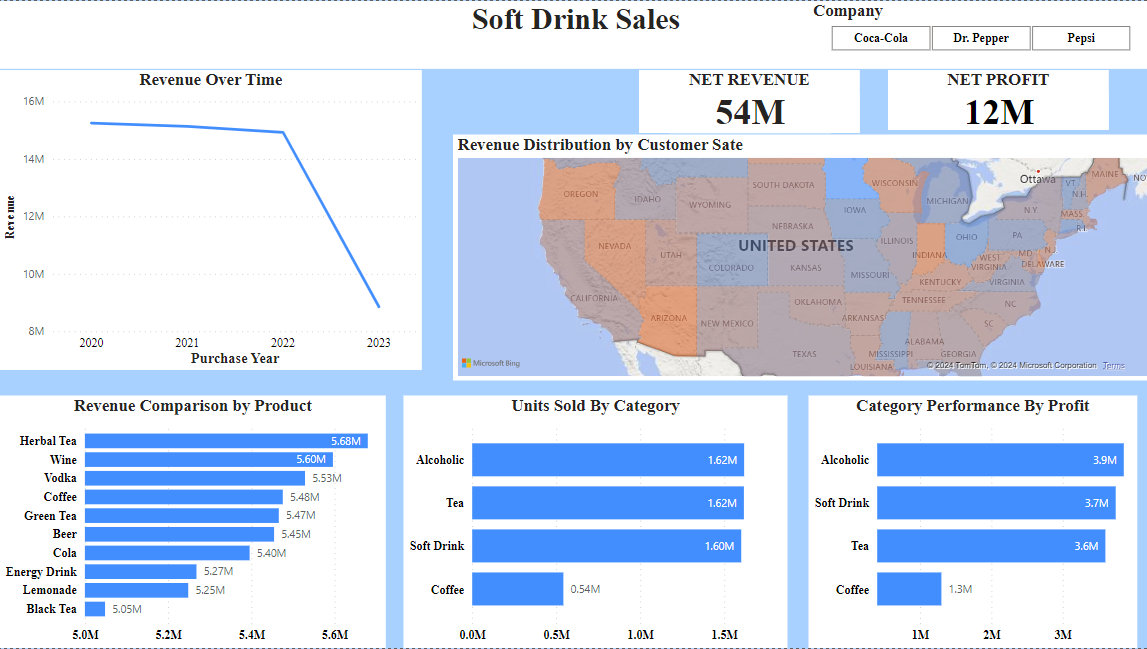

The dashboard page shown, as its layout file describes it:
{"tool":"powerbi","page":{"name":"Page 1","canvas":[1280,720],"ordinal":0},"visuals":[{"type":"lineChart","title":" Revenue Over Time","fields":{"Category":["soft_drink_sales.Purchase Date.Variation.Date Hierarchy.Year","soft_drink_sales.Purchase Date.Variation.Date Hierarchy.Month"],"Y":["Sum(soft_drink_sales.Revenue)"]},"box":[0,76.7,468.3,333.3],"z":0},{"type":"shape","title":"Soft Drink Sales","box":[0,0,1280,75],"z":2000},{"type":"shape","title":"NET REVENUE","box":[710,76.7,245,70],"z":3000},{"type":"card","fields":{"Values":["Sum(soft_drink_sales.Revenue)"]},"box":[743.3,95,180,51.7],"z":4000},{"type":"shape","title":"NET PROFIT","box":[986.7,76.7,245,66.7],"z":5000},{"type":"card","fields":{"Values":["Sum(soft_drink_sales.Profit)"]},"box":[1020,96.7,180,46.7],"z":6000},{"type":"clusteredBarChart","title":" Units Sold By Category ","fields":{"Category":["soft_drink_sales.Category"],"Y":["Sum(soft_drink_sales.Units Sold)"]},"box":[448.3,438.3,426.7,281.7],"z":7000},{"type":"clusteredBarChart","title":"Revenue Comparison by  Product","fields":{"Category":["soft_drink_sales.Product"],"Y":["Sum(soft_drink_sales.Revenue)"]},"box":[0,438.3,428.3,281.7],"z":8000},{"type":"clusteredBarChart","title":"Category Performance By Profit","fields":{"Category":["soft_drink_sales.Category"],"Y":["Sum(soft_drink_sales.Profit)"]},"box":[898.3,438.3,365,281.7],"z":9000},{"type":"filledMap","title":"Revenue Distribution by Customer Sate","fields":{"Category":["soft_drink_sales.Customer State"]},"box":[503.3,148.3,776.7,273.3],"z":10000},{"type":"slicer","title":"Company","fields":{"Values":["soft_drink_sales.Company"]},"box":[898.3,0,381.7,61.7],"z":10001}]}

Visuals, with their boxes in screenshot pixels (x1, y1, x2, y2), scaled from the page's 1280x720 canvas onto the 1147x649 screenshot:
" Revenue Over Time" lineChart: <bbox>0, 69, 420, 370</bbox>
"Soft Drink Sales" shape: <bbox>0, 0, 1146, 68</bbox>
"NET REVENUE" shape: <bbox>636, 69, 856, 132</bbox>
card - Sum(soft_drink_sales.Revenue): <bbox>666, 86, 827, 132</bbox>
"NET PROFIT" shape: <bbox>884, 69, 1104, 129</bbox>
card - Sum(soft_drink_sales.Profit): <bbox>914, 87, 1075, 129</bbox>
" Units Sold By Category " clusteredBarChart: <bbox>402, 395, 784, 648</bbox>
"Revenue Comparison by  Product" clusteredBarChart: <bbox>0, 395, 384, 648</bbox>
"Category Performance By Profit" clusteredBarChart: <bbox>805, 395, 1132, 648</bbox>
"Revenue Distribution by Customer Sate" filledMap: <bbox>451, 134, 1146, 380</bbox>
"Company" slicer: <bbox>805, 0, 1146, 56</bbox>
